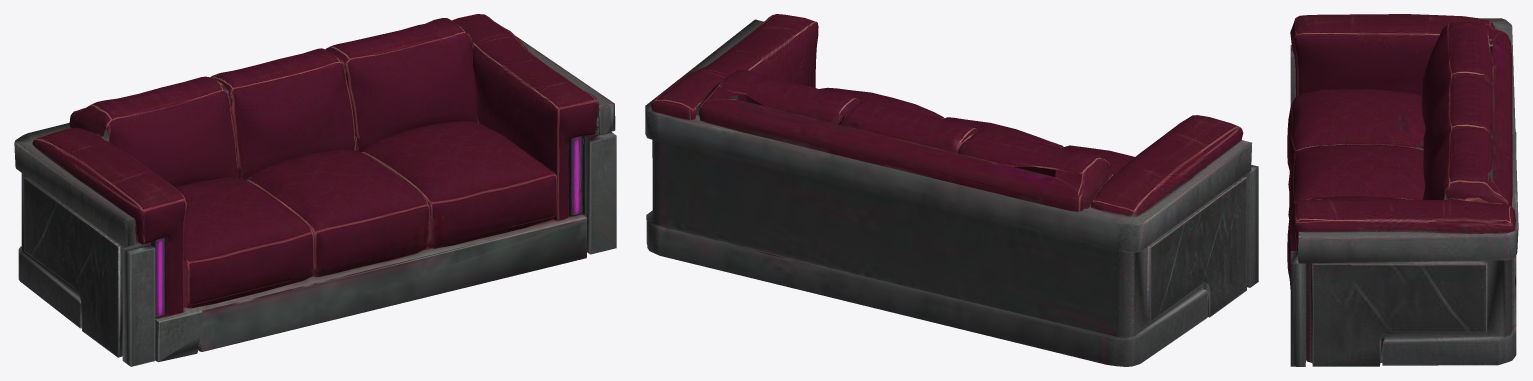
File: sofa_opt.glb
3 renders of one model, left to right at view 1: azimuth 30°, elevation 25°; view 2: azimuth 150°, elevation 25°; view 3: azimuth 270°, elevation 25°, orthographic. The views are drawn at different scales.
Size of the model in its own units: 0.9561 by 0.3306 by 0.4238.
1 material, 1 textured.
